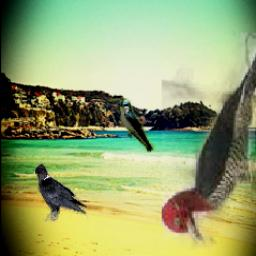Crow: (33, 163, 88, 222)
Swallow: (119, 98, 154, 153)
Woodpecker: (161, 33, 256, 250)
